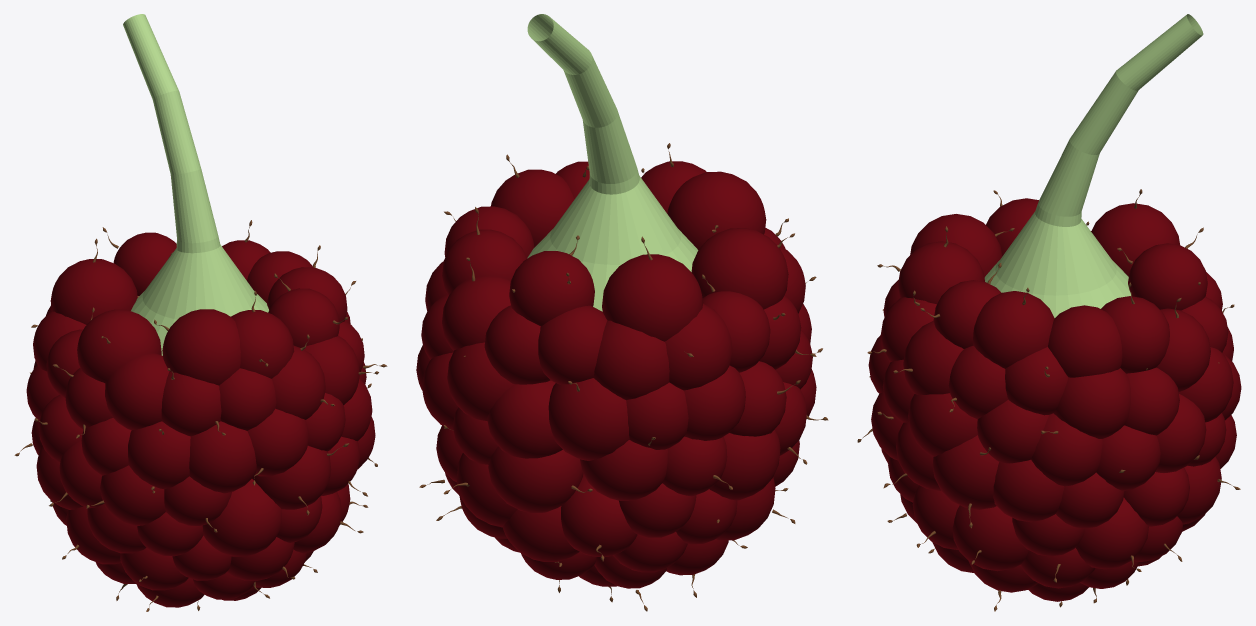
Rendered from raspberry.glb.
3 renders of one model, left to right at view 1: azimuth 30°, elevation 25°; view 2: azimuth 150°, elevation 25°; view 3: azimuth 270°, elevation 25°, orthographic. The views are drawn at different scales.
Visible parts, largest first — view 1: Cube, Cylinder; view 2: Cube, Cylinder; view 3: Cube, Cylinder.
Boxes of the visible parts, x1,y1,x2,y2 form: Cube: (14,220,387,611); Cylinder: (123,14,268,355); Cube: (416,143,828,611); Cylinder: (527,14,698,311); Cube: (857,189,1241,611); Cylinder: (984,14,1203,317).
Size of the model in its own units: 2.74 by 4.54 by 2.67.
